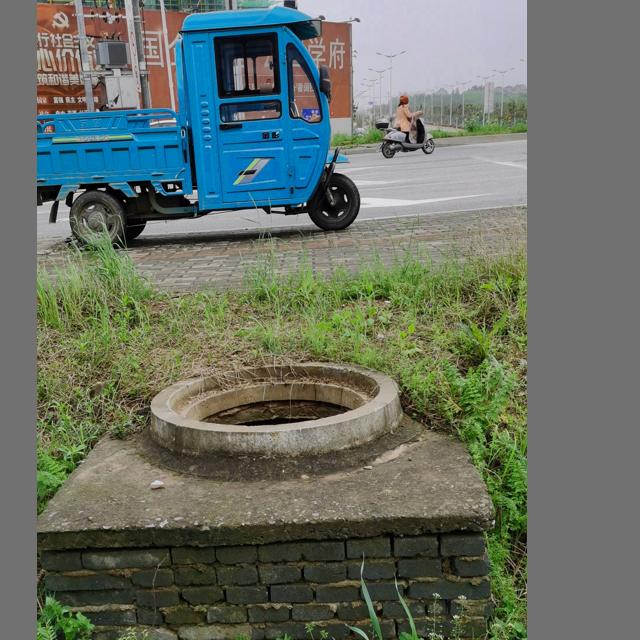lose: (154, 354, 401, 456)
